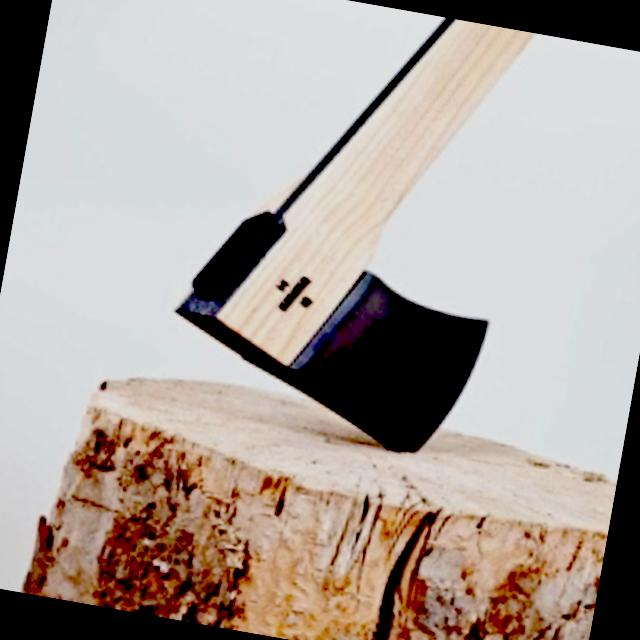ax: (147, 0, 556, 473)
